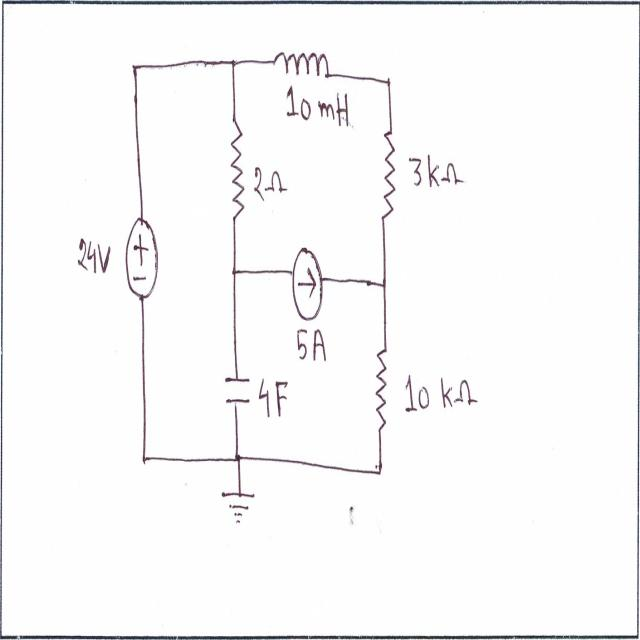capacitor: (223, 368, 251, 412)
ground: (222, 480, 259, 529)
inductor: (268, 44, 334, 84)
resistor: (228, 113, 250, 229), (377, 123, 398, 230), (371, 336, 392, 439)
voltage_source: (124, 212, 162, 306)
